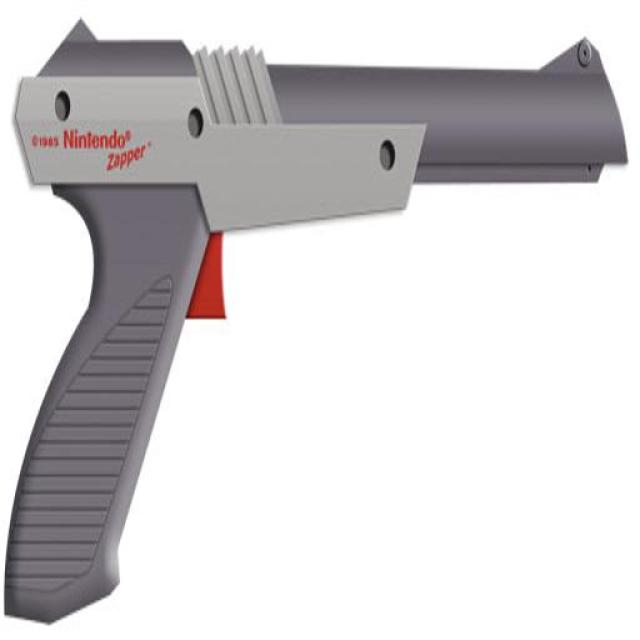pistol: (1, 6, 626, 620)
